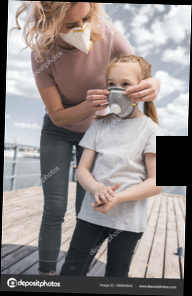with_mask: (59, 8, 93, 57), (105, 75, 138, 119)
